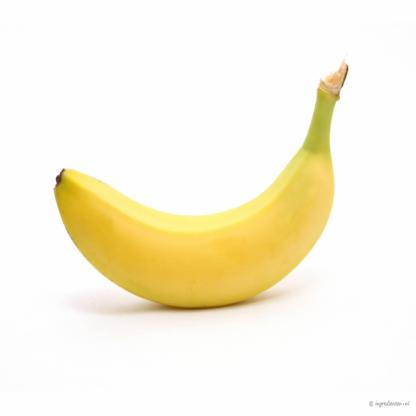banana: (53, 145, 340, 335)
